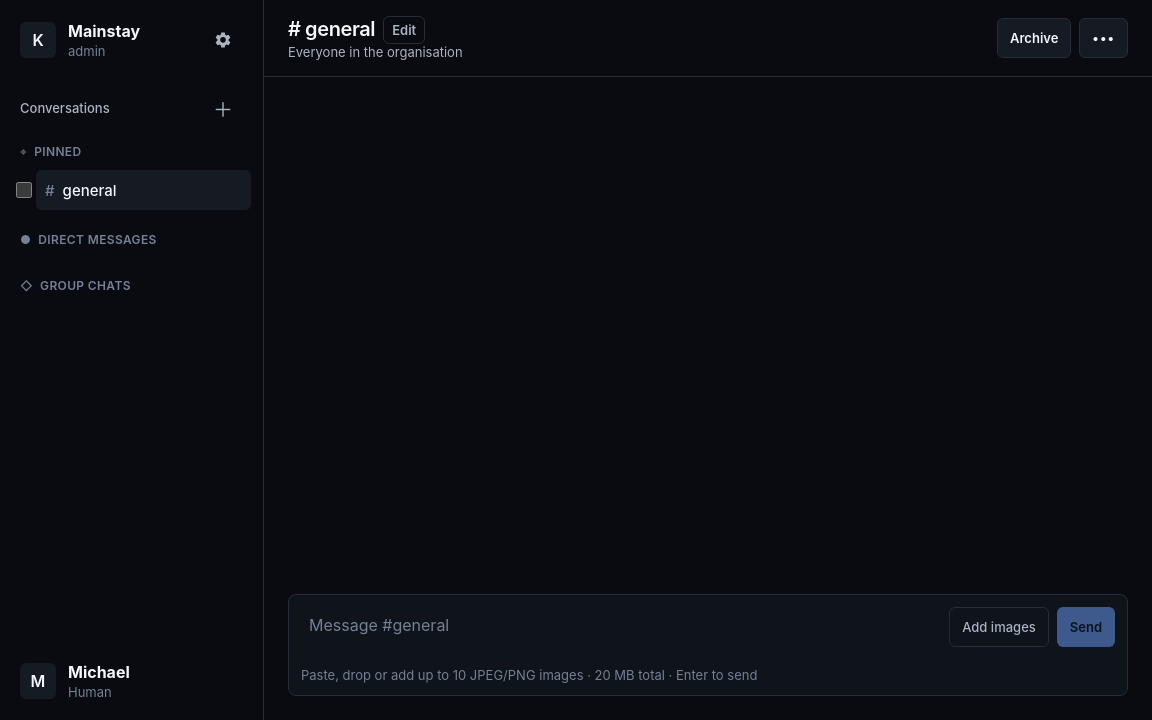
Test case: K-Mainstay UI › uses the fetched archived state when an archive commits after realtime activity
The width and height of the screenshot is (1152, 720).
Click the button with test id "archive-conversation" at (1034, 38), box left=997, top=18, right=1071, bottom=58
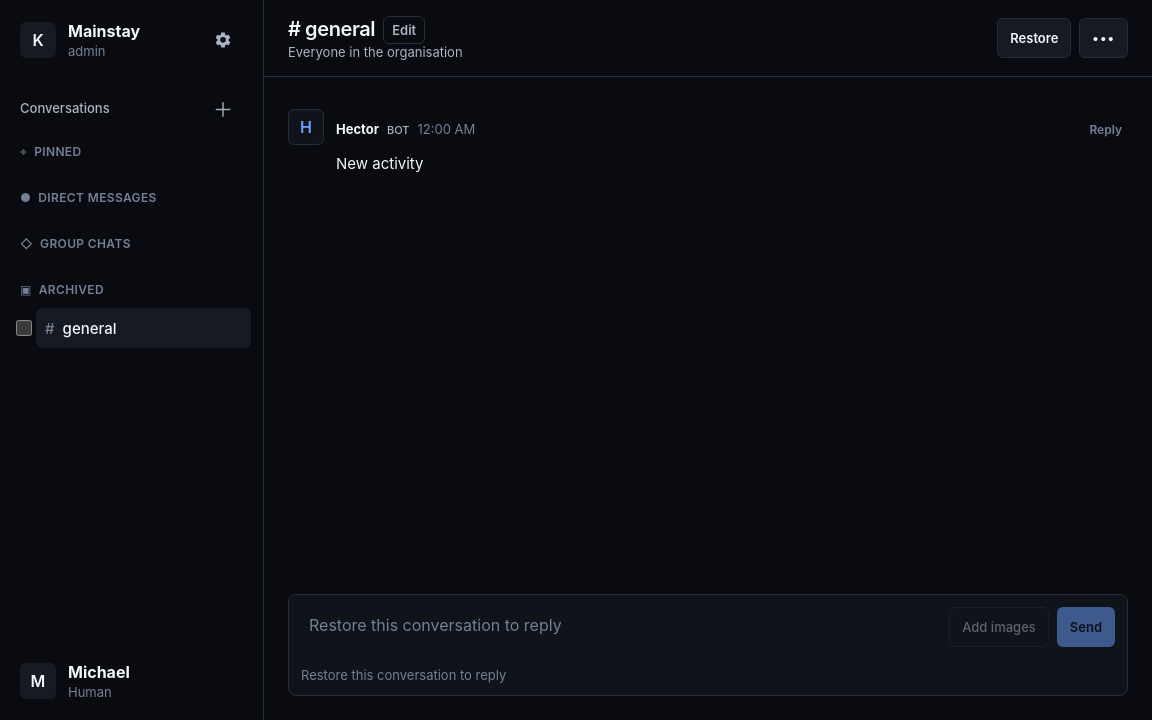
Check: the element with test id "archived-conversations" shows "general", box left=36, top=308, right=251, bottom=348
Check: the button with test id "restore-conversation" is shown, box left=997, top=18, right=1071, bottom=58
